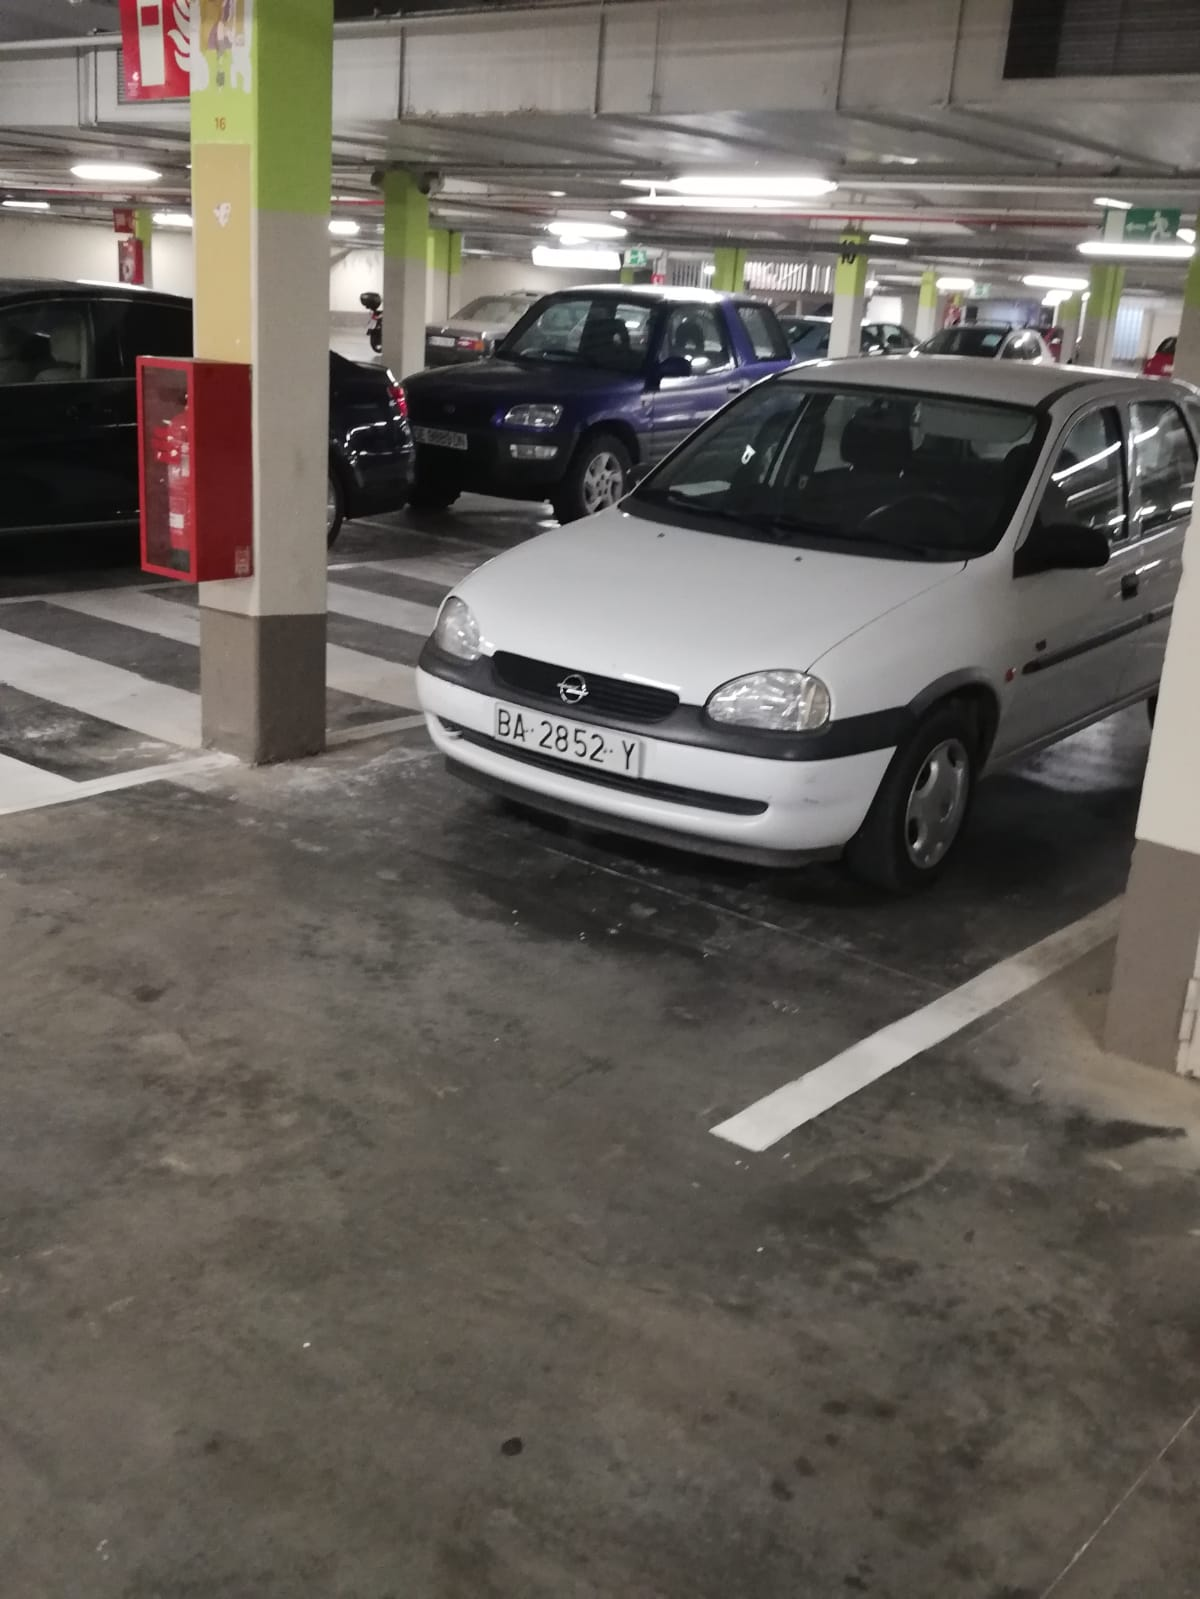Car: (416, 355, 1168, 869)
Plate: (496, 701, 648, 743)
